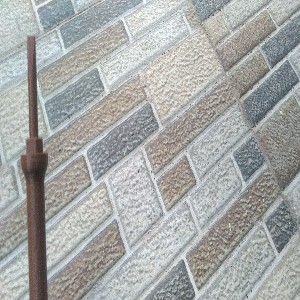obeng: (20, 34, 49, 300)
